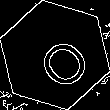O_NW: (21, 22, 89, 88)
